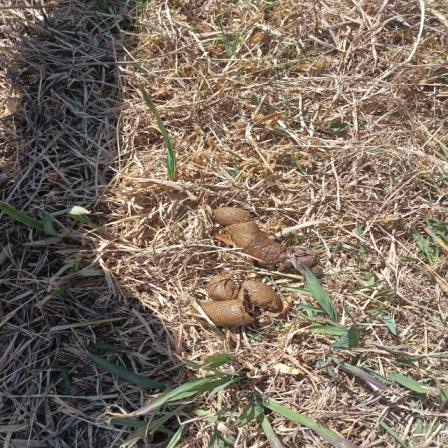dog-poop: (214, 193, 326, 266), (197, 269, 289, 329)
